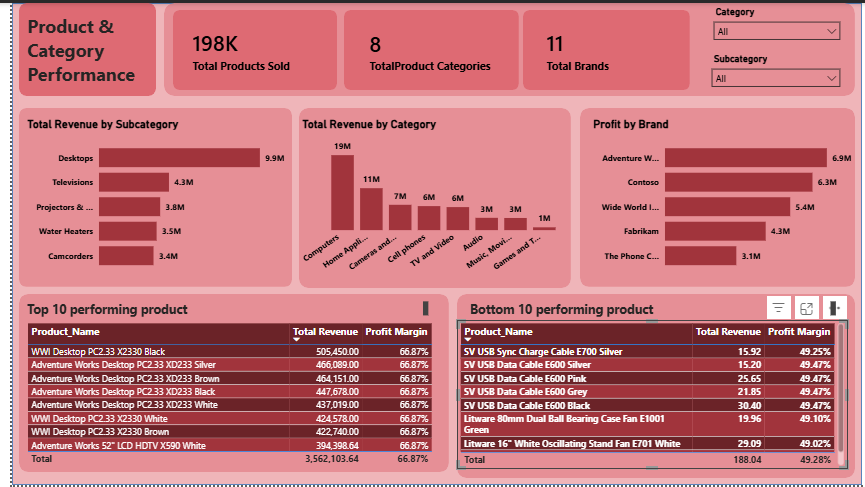

The page's visual inventory and layout, read from the dashboard file:
{"tool":"powerbi","page":{"name":"Product & Category Performance ","canvas":[1280,720],"ordinal":5},"visuals":[{"type":"shape","box":[0,0,1269.7,720],"z":0},{"type":"shape","box":[10.5,0,204.6,138.9],"z":1000},{"type":"shape","box":[227.1,0,1032.2,138.9],"z":2000},{"type":"shape","box":[10.5,434.7,642.3,265.9],"z":3000},{"type":"shape","box":[10.5,156.8,407.8,267.4],"z":4000},{"type":"shape","box":[428.7,156.8,406.3,268.9],"z":5000},{"type":"shape","box":[664.7,434.7,594.5,274.9],"z":6000},{"type":"textbox","box":[17.9,10.5,180.7,119.5],"z":7000},{"type":"shape","box":[848.5,156.8,410.8,267.4],"z":8000},{"type":"tableEx","fields":{"Values":["Products.Product_Name","Sales.Total Revenue","Sales.Profit Margin"]},"box":[17.9,473.5,628.9,228.5],"z":9000},{"type":"tableEx","fields":{"Values":["Products.Product_Name","Sales.Total Revenue","Sales.Profit Margin"]},"box":[665.2,473.7,582.9,221.7],"z":10000},{"type":"barChart","fields":{"Y":["Sales.Profit"],"Category":["Products.Brand"]},"box":[863.4,170.3,395.9,242],"z":11000},{"type":"barChart","fields":{"Category":["Products.Subcategory"],"Y":["Sales.Total Revenue"]},"box":[17.9,170.3,394.4,242],"z":12000},{"type":"columnChart","fields":{"Category":["Products.Category"],"Y":["Sales.Total Revenue"]},"box":[428.7,170.3,406.3,242],"z":13000},{"type":"shape","box":[495.9,10.5,261.4,119.5],"z":14000},{"type":"shape","box":[240.5,10.5,245,119.5],"z":15000},{"type":"shape","box":[763.3,10.5,249.5,119.5],"z":16000},{"type":"slicer","fields":{"Values":["Products.Category"]},"box":[1038.2,0,209.1,59.8],"z":17000},{"type":"slicer","fields":{"Values":["Products.Subcategory"]},"box":[1035.2,70.2,212.1,68.7],"z":18000},{"type":"cardVisual","fields":{"Data":["Products.Total Products Sold"]},"box":[240.5,16.4,222.6,107.6],"z":19000},{"type":"cardVisual","fields":{"Data":["Products.Total Brands"]},"box":[769.3,16.4,237.5,107.6],"z":20000},{"type":"cardVisual","fields":{"Data":["Products.Product Categories"]},"box":[504.9,19.4,243.5,104.6],"z":21000},{"type":"textbox","box":[679.7,440.7,555.7,32.9],"z":22000},{"type":"textbox","box":[17.9,440.7,609.5,32.9],"z":23000}]}

Visuals, with their boxes in screenshot pixels (x1, y1, x2, y2), scaled from the page's 1280x720 canvas onto the 865x487 screenshot:
shape: rect(0, 0, 858, 486)
shape: rect(7, 0, 145, 94)
shape: rect(153, 0, 851, 94)
shape: rect(7, 294, 441, 474)
shape: rect(7, 106, 283, 287)
shape: rect(290, 106, 564, 288)
shape: rect(449, 294, 851, 480)
textbox: rect(12, 7, 134, 88)
shape: rect(573, 106, 851, 287)
tableEx - Products.Product_Name x Sales.Total Revenue: rect(12, 320, 437, 475)
tableEx - Products.Product_Name x Sales.Total Revenue: rect(450, 320, 843, 470)
barChart - Sales.Profit x Products.Brand: rect(583, 115, 851, 279)
barChart - Products.Subcategory x Sales.Total Revenue: rect(12, 115, 279, 279)
columnChart - Products.Category x Sales.Total Revenue: rect(290, 115, 564, 279)
shape: rect(335, 7, 512, 88)
shape: rect(163, 7, 328, 88)
shape: rect(516, 7, 684, 88)
slicer - Products.Category: rect(702, 0, 843, 40)
slicer - Products.Subcategory: rect(700, 47, 843, 94)
cardVisual - Products.Total Products Sold: rect(163, 11, 313, 84)
cardVisual - Products.Total Brands: rect(520, 11, 680, 84)
cardVisual - Products.Product Categories: rect(341, 13, 506, 84)
textbox: rect(459, 298, 835, 320)
textbox: rect(12, 298, 424, 320)
